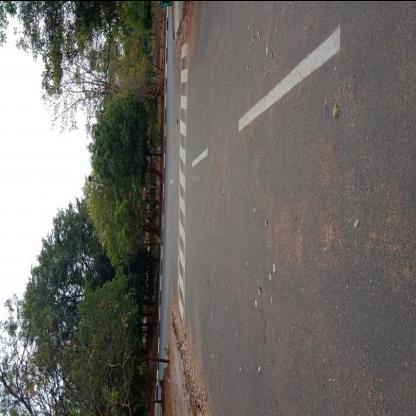speed-bumps: (171, 30, 193, 334)
